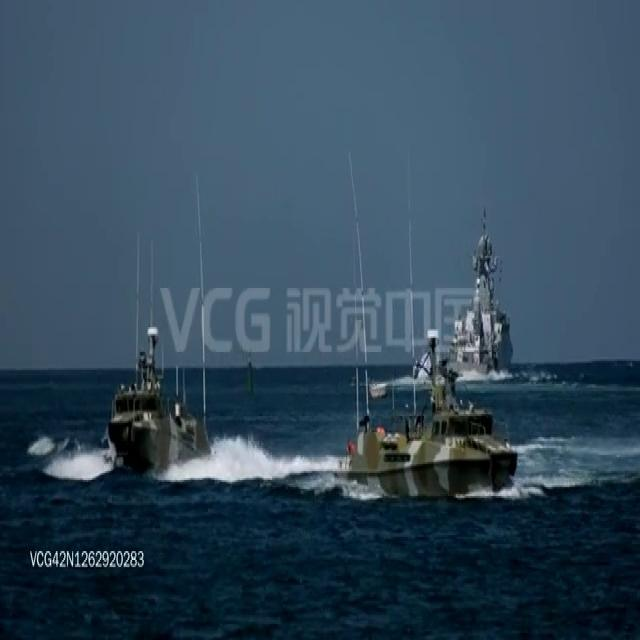houseboat: (336, 363, 515, 500), (108, 300, 209, 472)
navalvessels: (450, 200, 512, 373)
